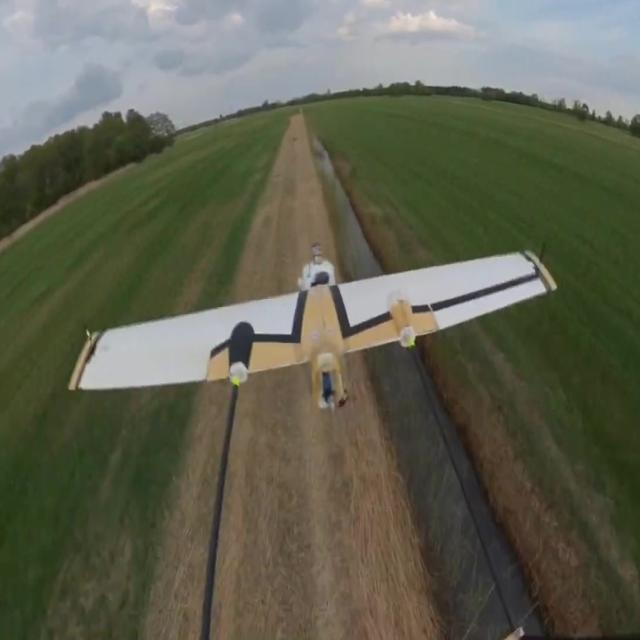iha: (65, 238, 560, 414)
